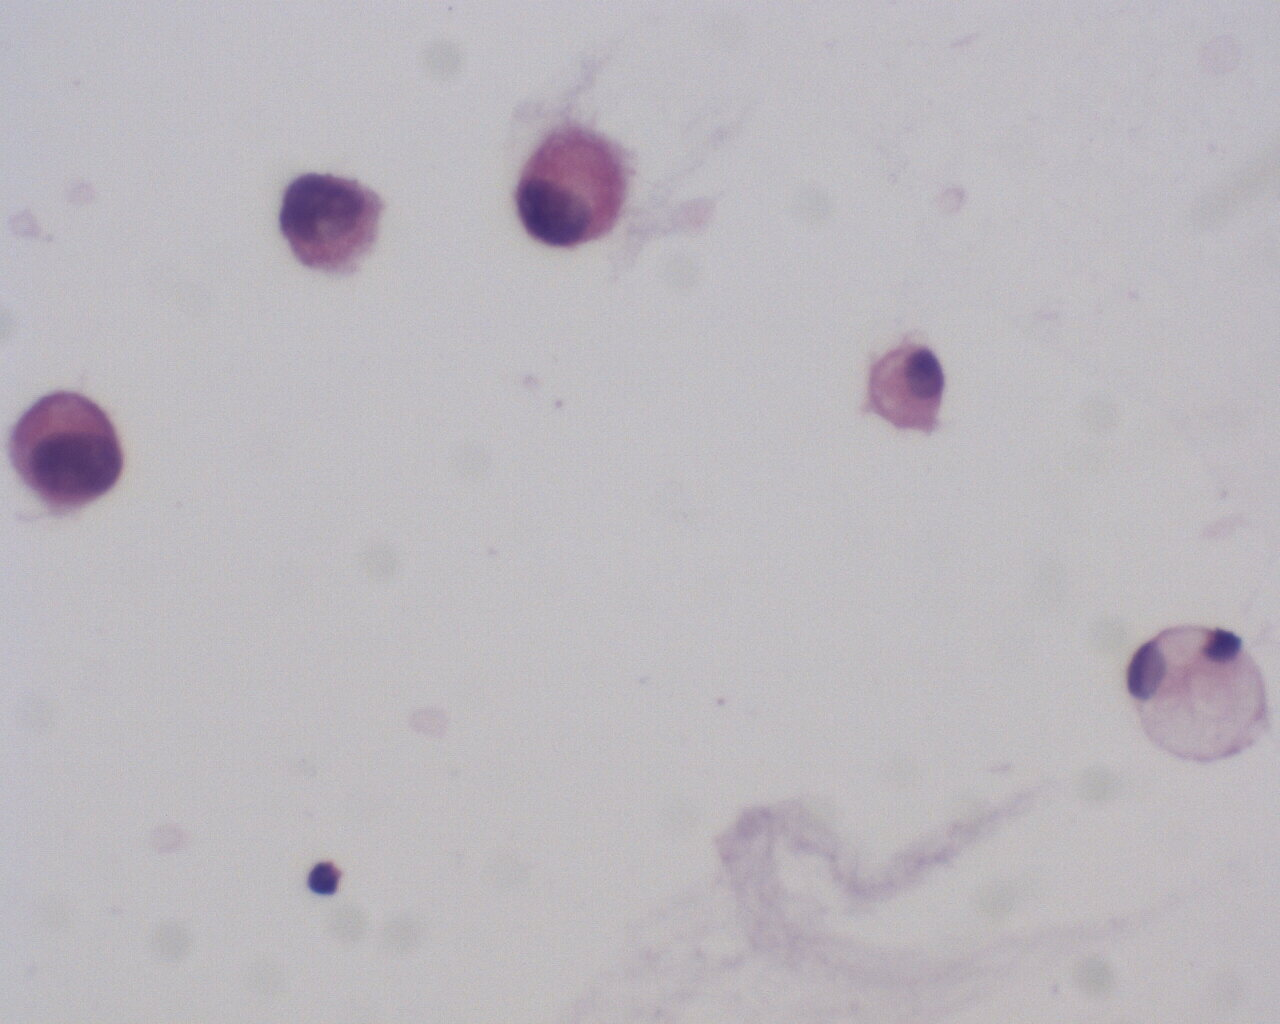ab: (3, 387, 127, 515), (511, 122, 633, 250), (271, 168, 391, 274)
histo: (1123, 615, 1278, 772), (860, 336, 954, 438)
lymph: (301, 858, 344, 905)
